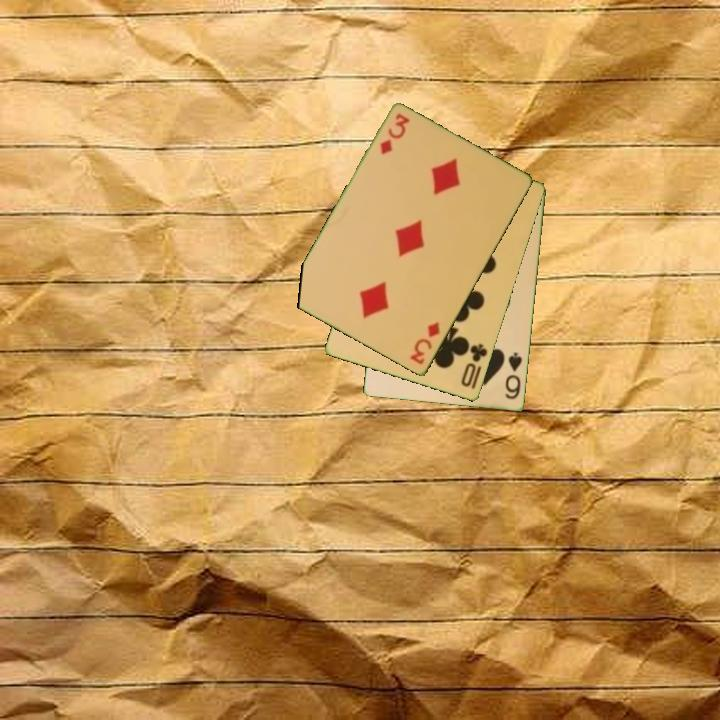10c: (458, 340, 490, 392)
3d: (407, 319, 443, 368), (376, 110, 412, 158)
6s: (502, 349, 525, 403)
